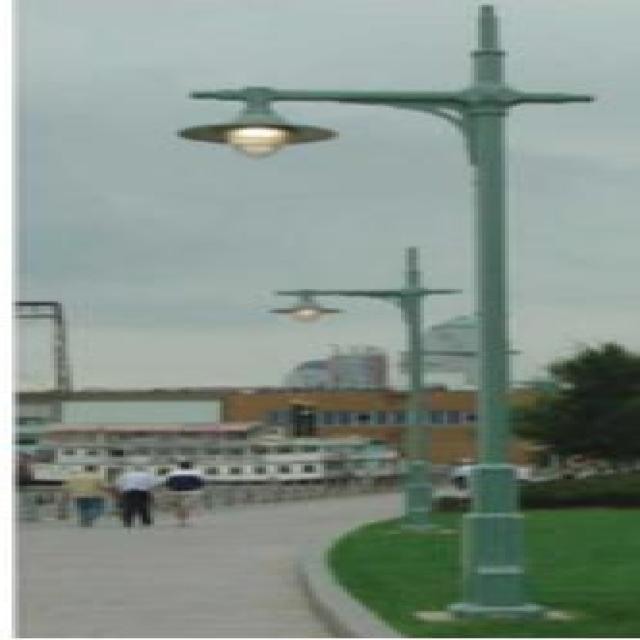on: (180, 30, 330, 230)
